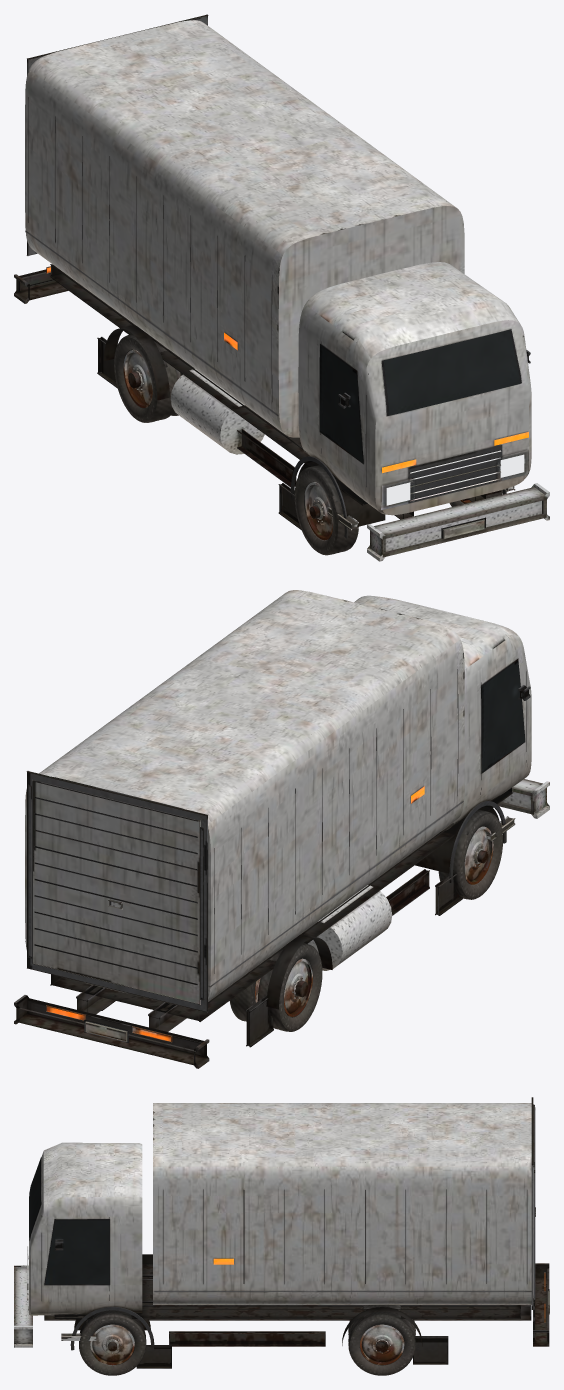
Rendered from traffic-boxtruck.glb.
The picture shows the model from 3 angles, top to bottom: view 1: azimuth 30°, elevation 25°; view 2: azimuth 150°, elevation 25°; view 3: azimuth 270°, elevation 25°; orthographic projection. The views are drawn at different scales.
Visible parts, largest first — view 1: body, wheel-fl, wheel-rl; view 2: body, wheel-fl, wheel-rl, wheel-rli; view 3: body, wheel-fr, wheel-rr.
Part boxes in pixels (x1,y1,x2,y2): body: (14,14,549,561); wheel-fl: (294,465,358,555); wheel-rl: (114,334,177,422); body: (14,590,549,1068); wheel-fl: (438,809,502,899); wheel-rl: (258,943,322,1031); wheel-rli: (229,978,260,1021); body: (14,1097,549,1368); wheel-fr: (79,1310,146,1375); wheel-rr: (348,1311,415,1375).
Size of the model in its own units: 2.39 by 3.55 by 7.95.
Materials: 20 (18 with a texture image).
